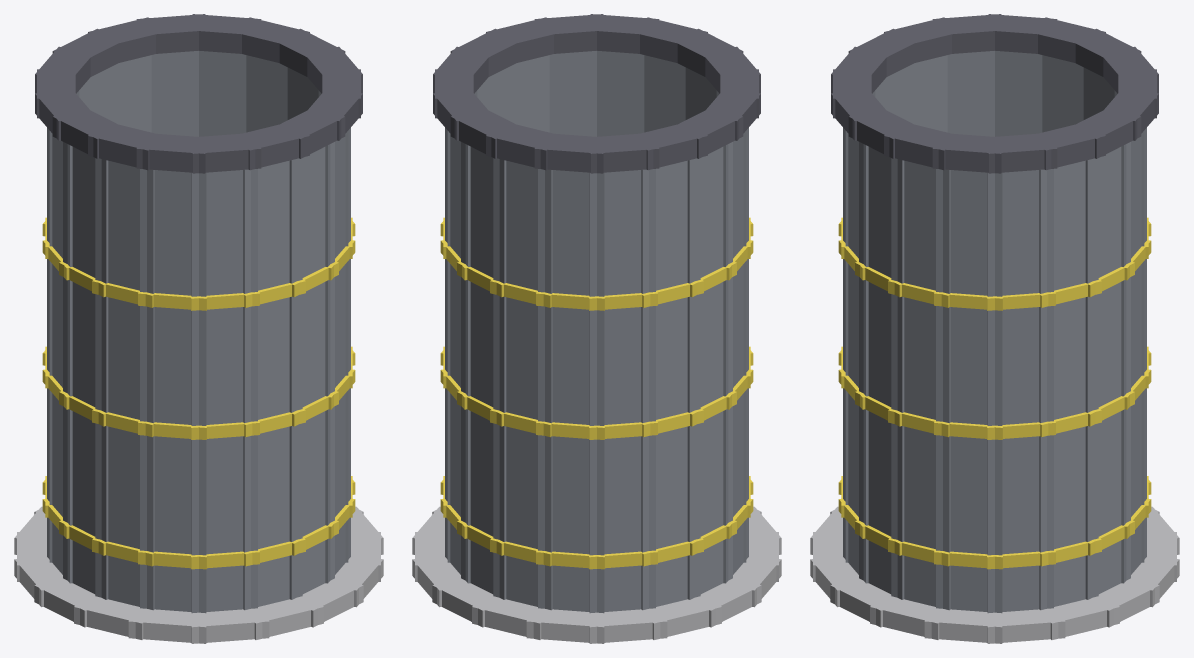
The picture shows the model from 3 angles, left to right: view 1: azimuth 30°, elevation 25°; view 2: azimuth 150°, elevation 25°; view 3: azimuth 270°, elevation 25°; orthographic projection.
Visible parts, largest first — view 1: tube; view 2: tube; view 3: tube.
Boxes of the visible parts, x1,y1,x2,y2 form: tube: (14, 14, 383, 643); tube: (412, 14, 781, 643); tube: (810, 14, 1179, 643).
Size of the model in its own units: 4.44 by 6.33 by 4.4.
